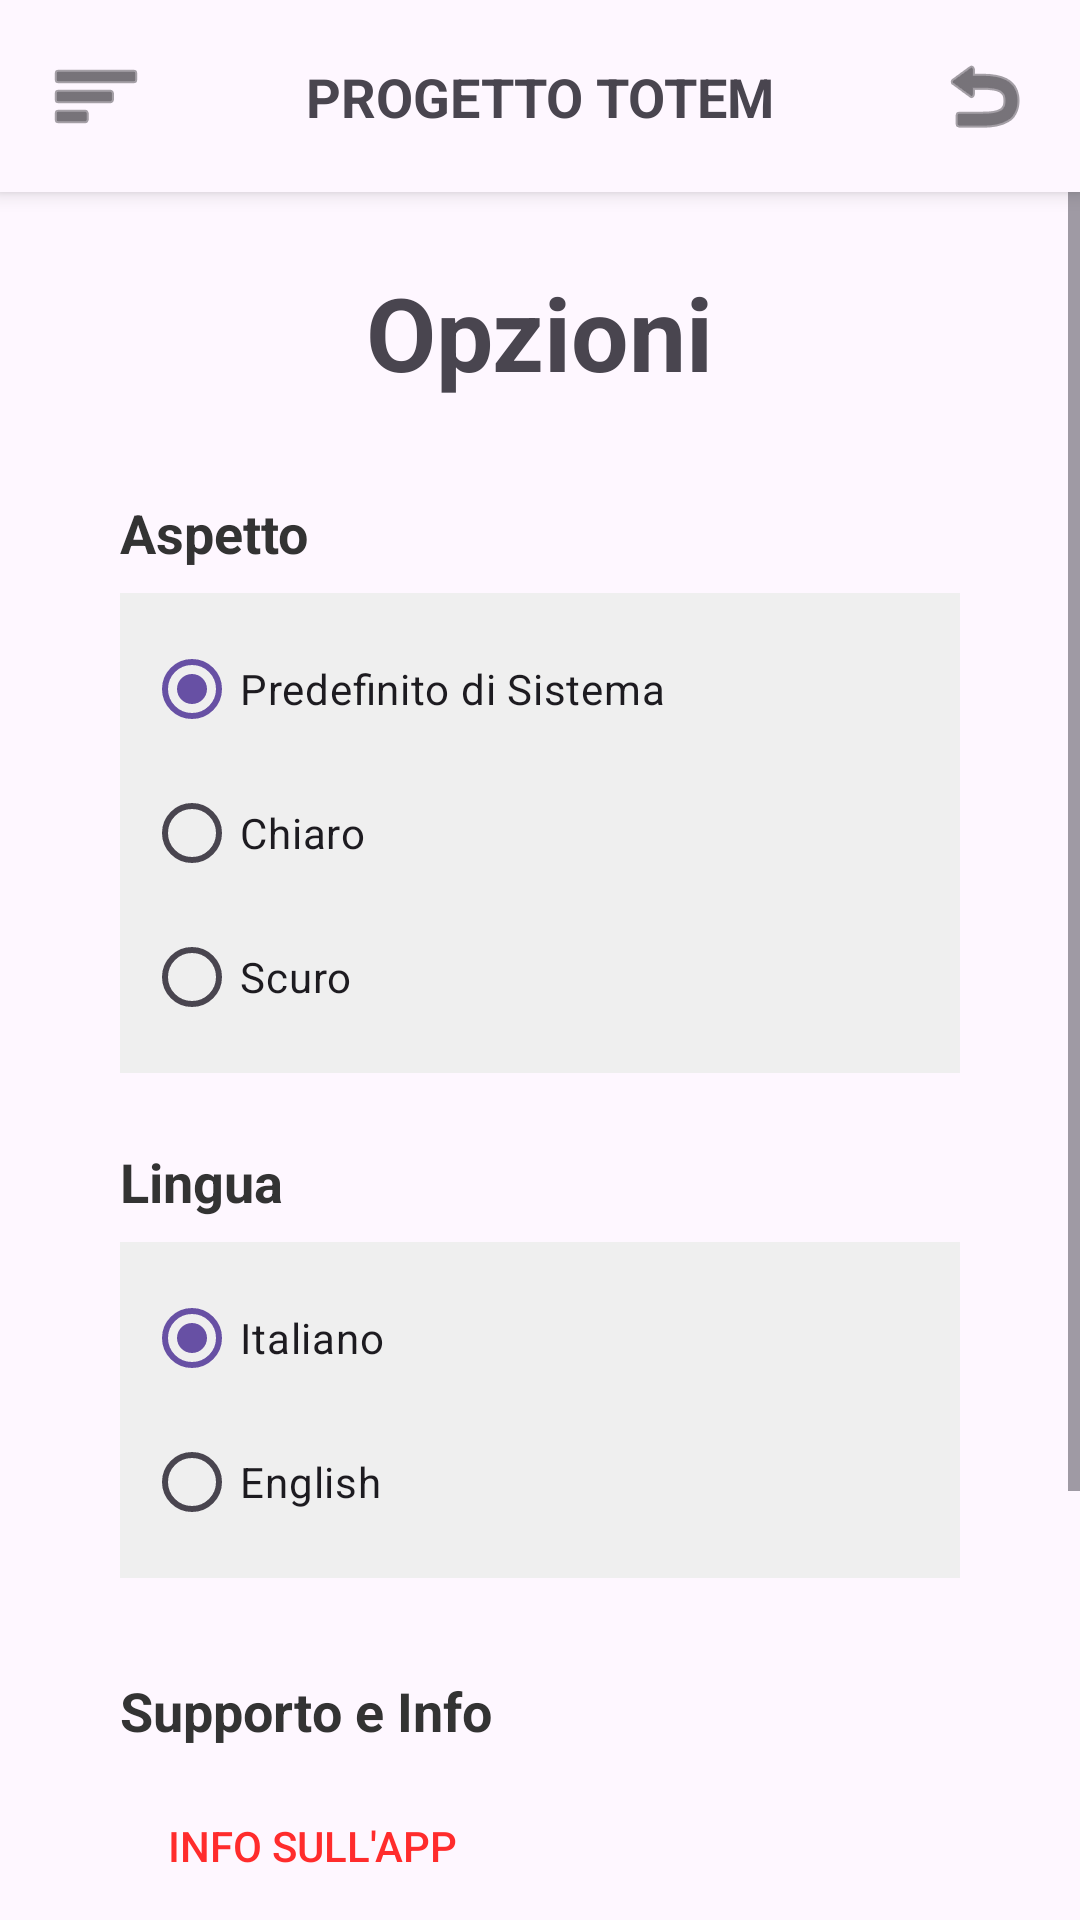

Screen size 1080 × 1920. Icon name, then its box in pixels as bbox=[x1, y1, x2, y2]:
Indietro: bbox=[951, 65, 1020, 128]
Menu: bbox=[55, 70, 137, 123]
